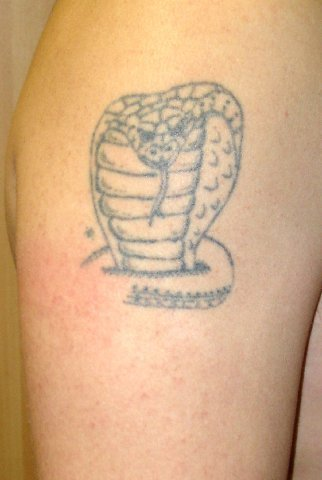tatu7_zmeya: (78, 64, 243, 326)
